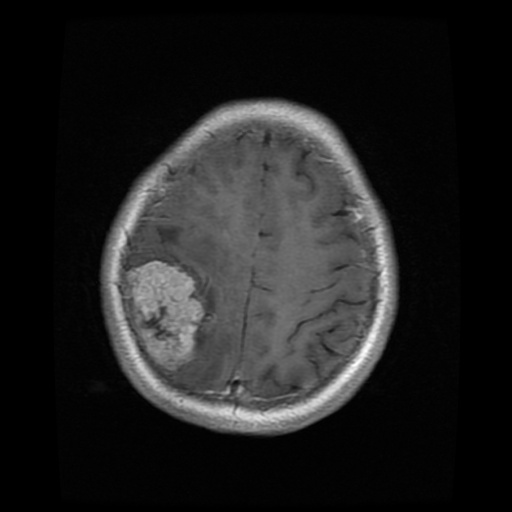meningioma: (125, 260, 205, 369)
